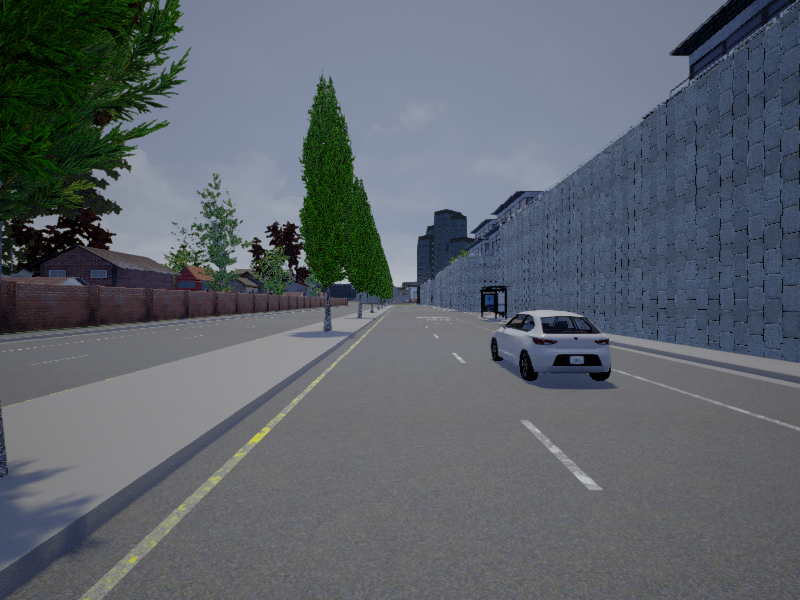Benign: (493, 306, 613, 384)
